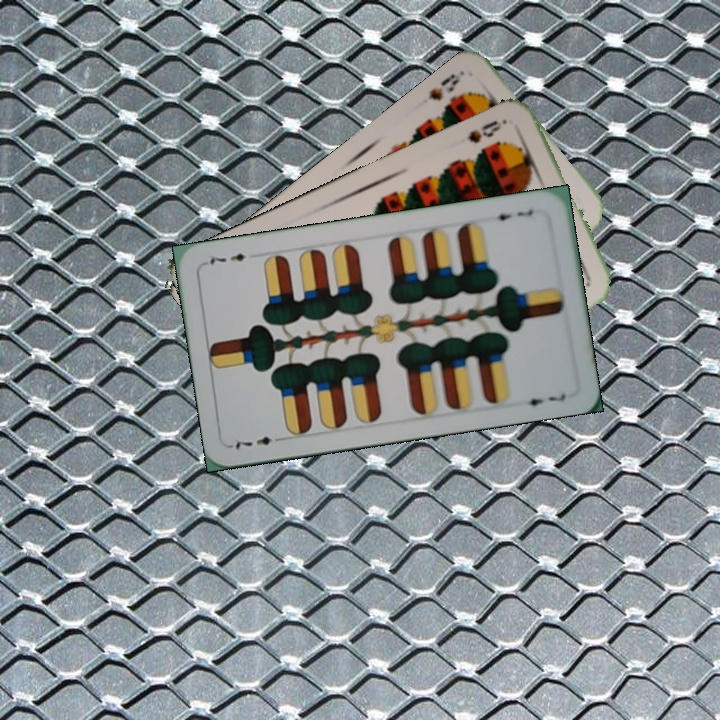E7: (228, 432, 287, 453), (486, 205, 535, 224)
S8: (423, 66, 468, 103), (464, 115, 510, 146)
